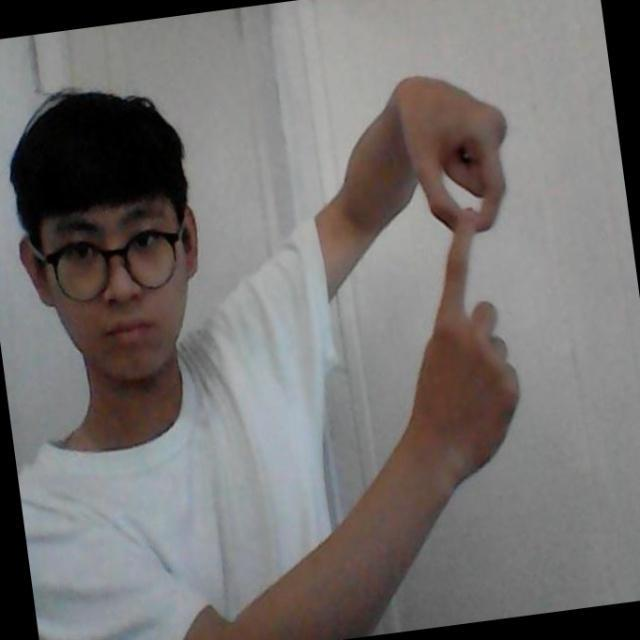Q: (398, 90, 530, 435)
